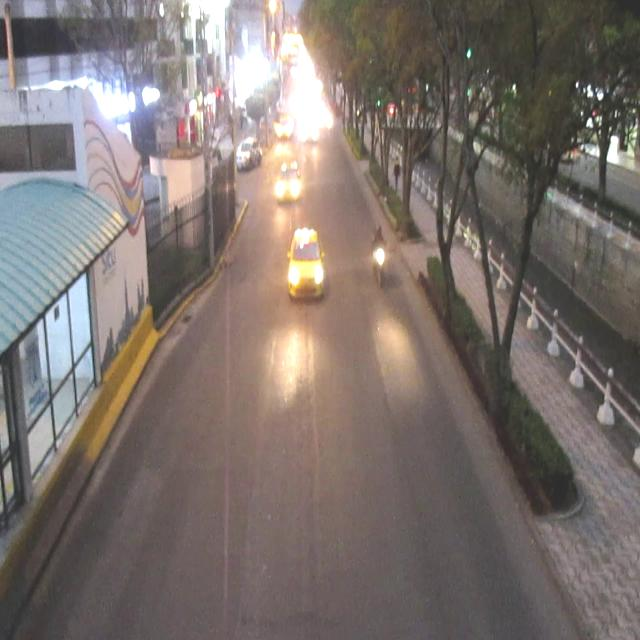MOTORCYCLE: (373, 222, 387, 282)
SUV: (236, 140, 258, 170)
